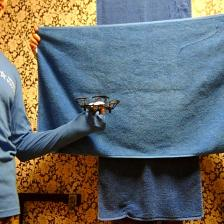drone: (75, 94, 122, 116)
